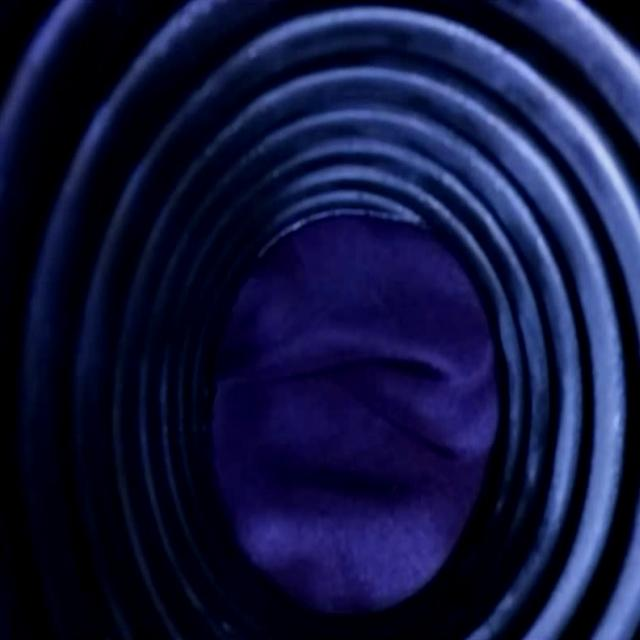block: (213, 221, 497, 601)
